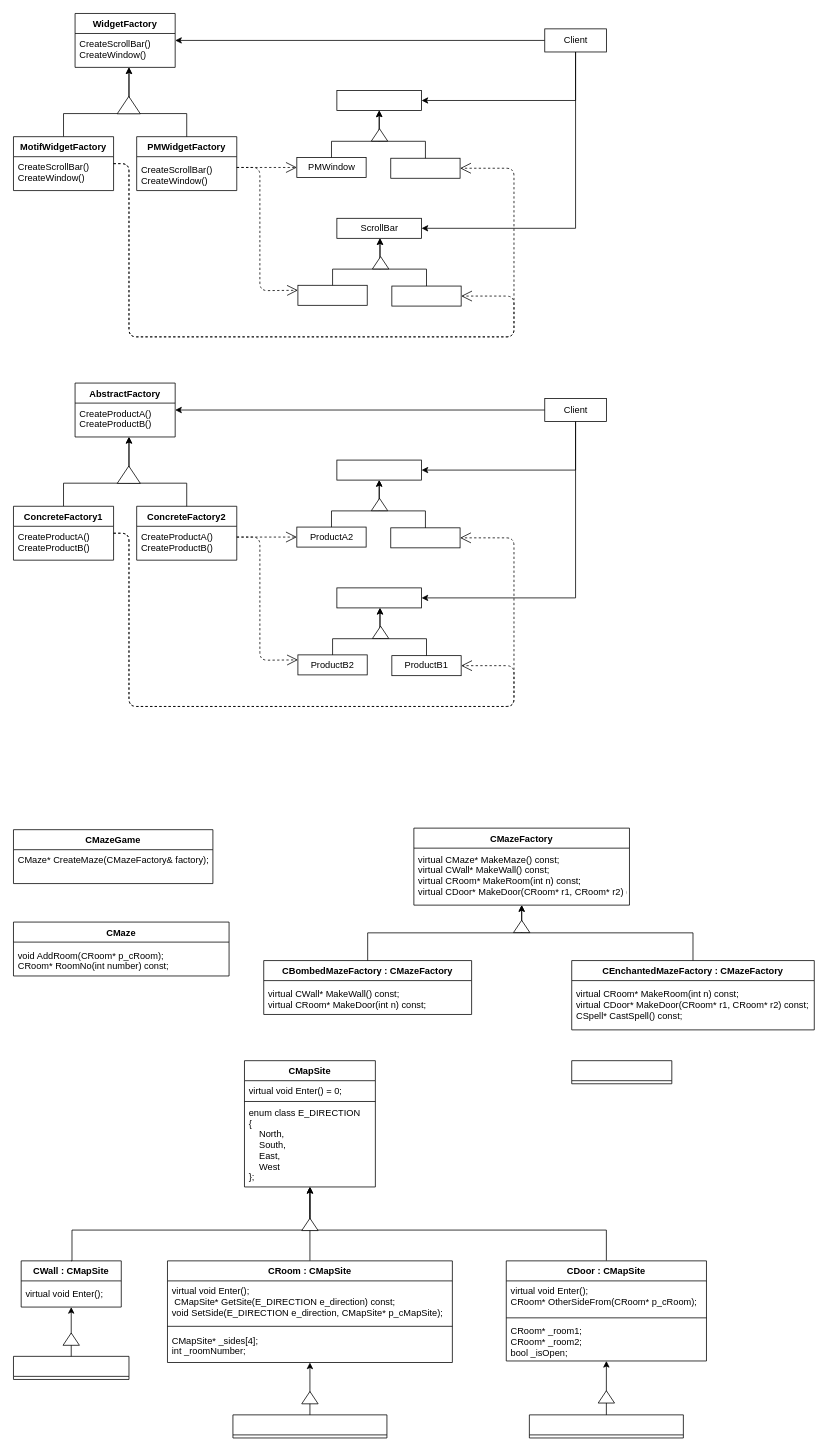
The diagram is 828 pixels wide and 1451 high, and some of its shapes have lost their labels. Here are the shapes that lost their labels. From the top down, the centre of each, then its label:
At point (379, 100): "Window".
At point (425, 167): "MotiWindow".
At point (332, 295): "PMScrollBar".
At point (426, 295): "MotiScrollBar".
At point (379, 469): "AbstractProductA".
At point (425, 537): "ProductA1".
At point (379, 597): "AbstractProductB".
At point (621, 1072): "CSpell".
At point (71, 1367): "CBombedWall : CWall".
At point (309, 1426): "CRoomWithABomb : CRoom".
At point (606, 1426): "CDoorNeedingSpell : CDoor".
